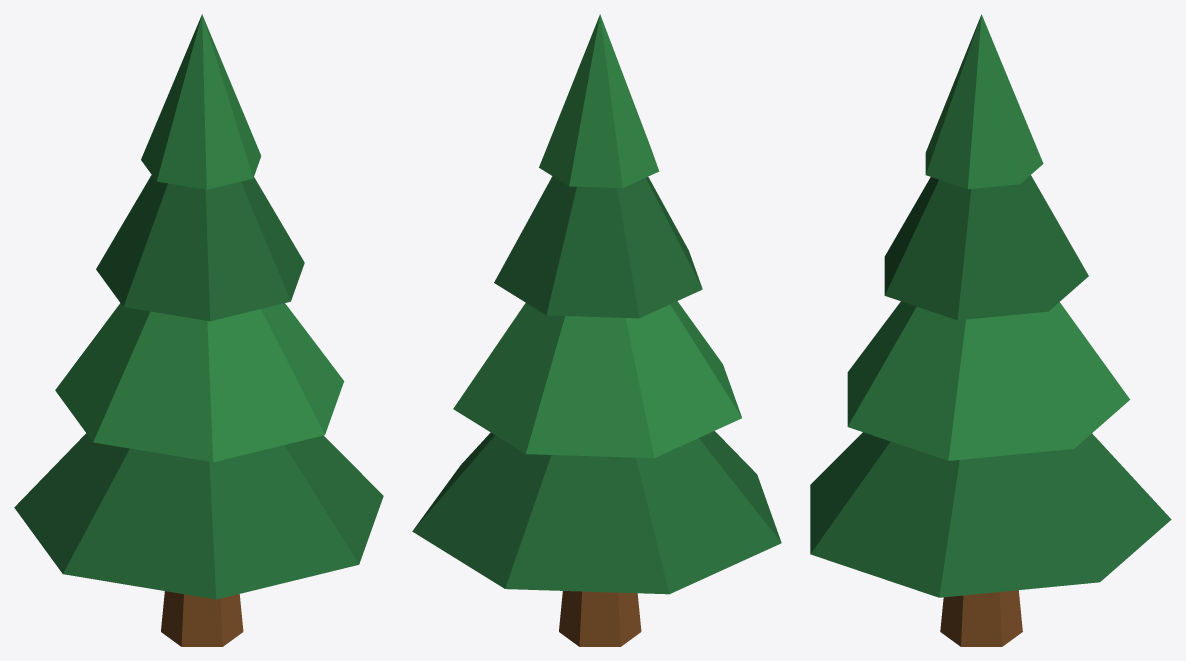
The model's file is tree_pine.glb.
3 renders of one model, left to right at view 1: azimuth 30°, elevation 25°; view 2: azimuth 150°, elevation 25°; view 3: azimuth 270°, elevation 25°, orthographic.
Parts seen in each view (by area): view 1: folha_pinheiro_escuro, folha_pinheiro, tronco.003; view 2: folha_pinheiro_escuro, folha_pinheiro, tronco.003; view 3: folha_pinheiro_escuro, folha_pinheiro, tronco.003.
Boxes of the visible parts, x1,y1,x2,y2 form: folha_pinheiro_escuro: [14, 175, 383, 599]; folha_pinheiro: [55, 14, 344, 462]; tronco.003: [161, 591, 243, 646]; folha_pinheiro_escuro: [412, 176, 781, 594]; folha_pinheiro: [453, 14, 741, 458]; tronco.003: [559, 591, 641, 646]; folha_pinheiro_escuro: [810, 175, 1171, 597]; folha_pinheiro: [847, 14, 1130, 460]; tronco.003: [940, 590, 1022, 646].
Size of the model in its own units: 0.8969 by 1.65 by 0.8744.
